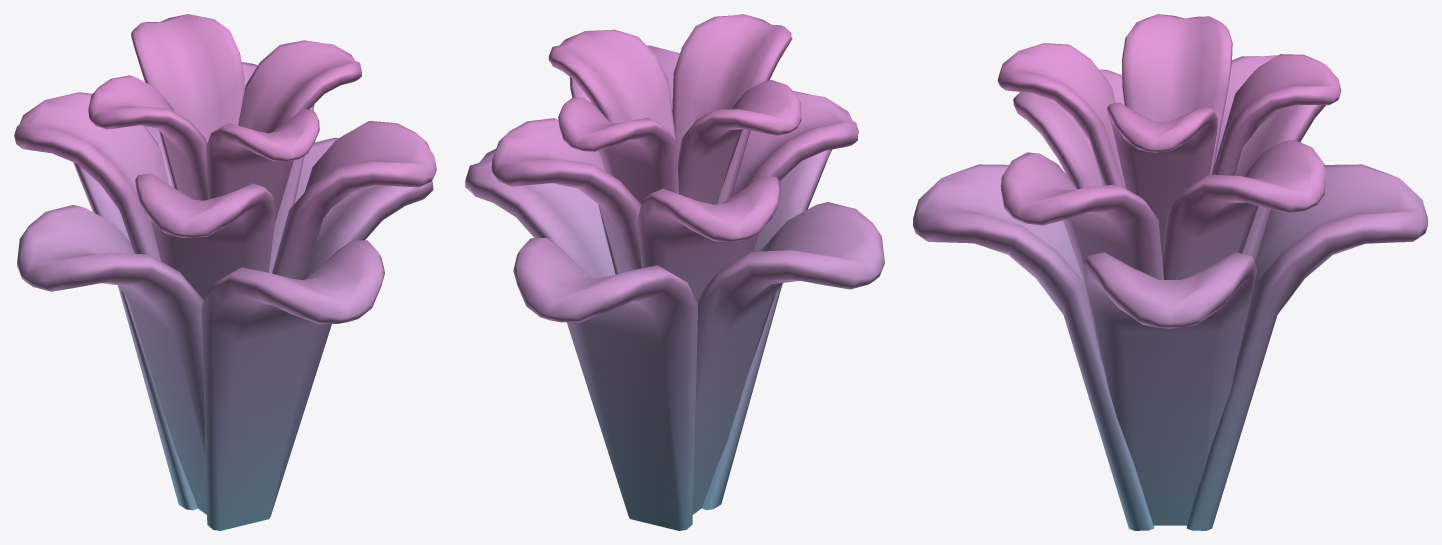
The model's file is pequeno_coral03.fbx.
3 views of the same model, side by side, from view 1: azimuth 30°, elevation 25°; view 2: azimuth 150°, elevation 25°; view 3: azimuth 270°, elevation 25° (orthographic). The views are drawn at different scales.
Parts seen in each view (by area): view 1: Plant.037; view 2: Plant.037; view 3: Plant.037.
Part boxes in pixels (<box>): Plant.037: <box>14,14,436,530</box>; Plant.037: <box>465,14,884,530</box>; Plant.037: <box>913,14,1427,530</box>.
Bounding box in the file's own units: 637 × 666 × 690.
1 material, 1 textured.
